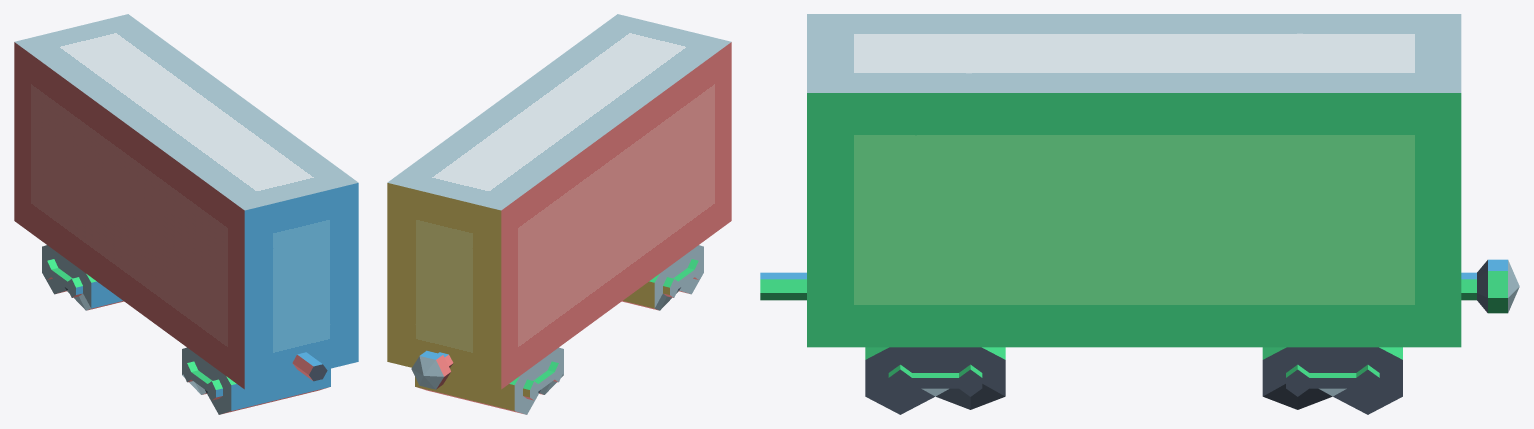
3 renders of one model, left to right at view 1: azimuth 30°, elevation 25°; view 2: azimuth 150°, elevation 25°; view 3: azimuth 270°, elevation 25°, orthographic. The views are drawn at different scales.
Visible parts, largest first — view 1: car, wheel2, wheel1, joint; view 2: car, wheel1, wheel2, joint2; view 3: car, wheel2, wheel1, joint2, joint.
Part boxes in pixels (x1,y1,x2,y2): car: (14,14,358,389); wheel2: (182,347,330,414); wheel1: (42,245,123,310); joint: (292,352,327,381); car: (387,14,731,389); wheel1: (415,347,563,414); wheel2: (622,245,703,310); joint2: (411,350,453,389); car: (807,14,1461,347); wheel2: (865,347,1005,414); wheel1: (1262,347,1402,414); joint2: (1461,259,1519,313); joint: (760,272,806,300).
Size of the model in its own units: 0.25 by 0.4823 by 1.02.
1 material, 1 textured.
